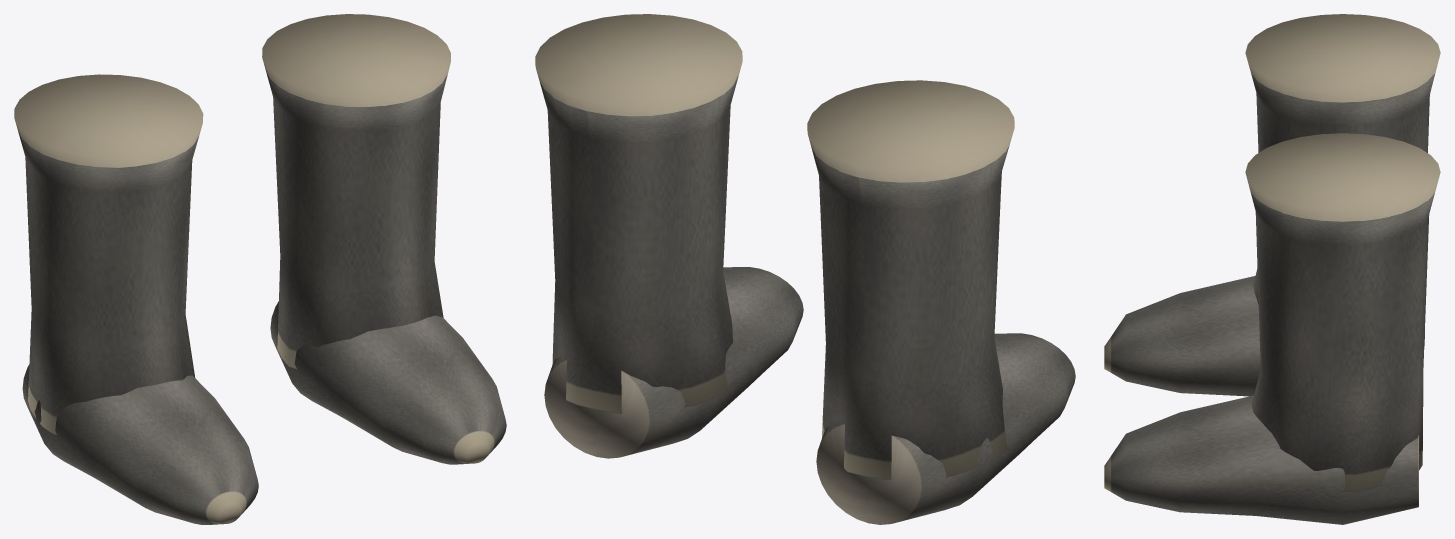
Rendered from ash_boots_feet.glb.
3 views of the same model, side by side, from view 1: azimuth 30°, elevation 25°; view 2: azimuth 150°, elevation 25°; view 3: azimuth 270°, elevation 25° (orthographic). The views are drawn at different scales.
Visible parts, largest first — view 1: ash_boots_feet; view 2: ash_boots_feet; view 3: ash_boots_feet.
Boxes of the visible parts, x1=… form: ash_boots_feet: x1=14, y1=14, x2=506, y2=524; ash_boots_feet: x1=535, y1=14, x2=1075, y2=524; ash_boots_feet: x1=1104, y1=14, x2=1440, y2=524.
Bounding box in the file's own units: 0.55 × 0.4477 × 0.3965.
Materials: 1 (1 with a texture image).
